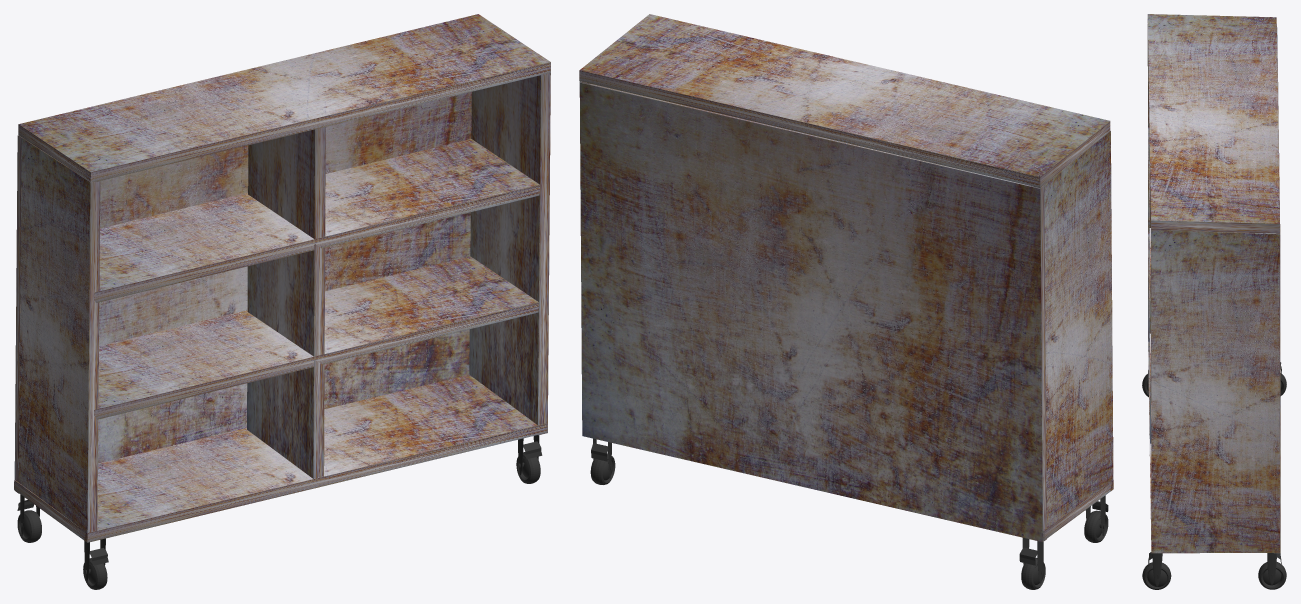
The model's file is Cabinet.fbx.
The picture shows the model from 3 angles, left to right: view 1: azimuth 30°, elevation 25°; view 2: azimuth 150°, elevation 25°; view 3: azimuth 270°, elevation 25°; orthographic projection. The views are drawn at different scales.
Visible parts, largest first — view 1: ciaCabinet; view 2: ciaCabinet; view 3: ciaCabinet.
Part boxes in pixels (box(x1,y1,x2,y2)): ciaCabinet: box(14, 14, 550, 589); ciaCabinet: box(579, 14, 1113, 589); ciaCabinet: box(1142, 14, 1286, 589).
Size of the model in its own units: 242 by 209 by 72.12.
